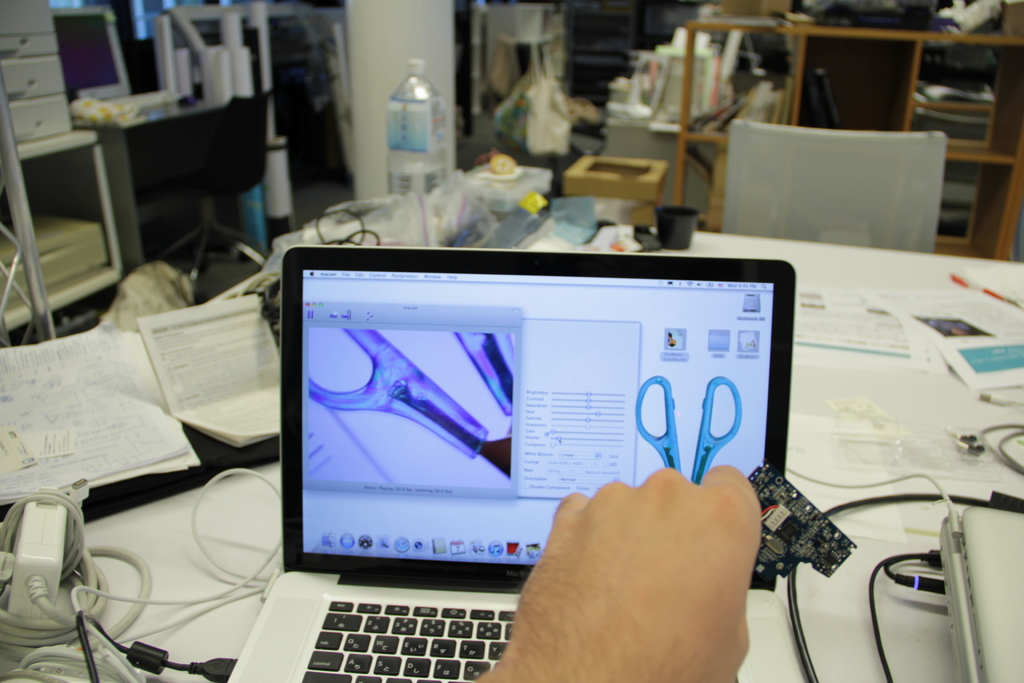Book: (125, 290, 283, 446)
